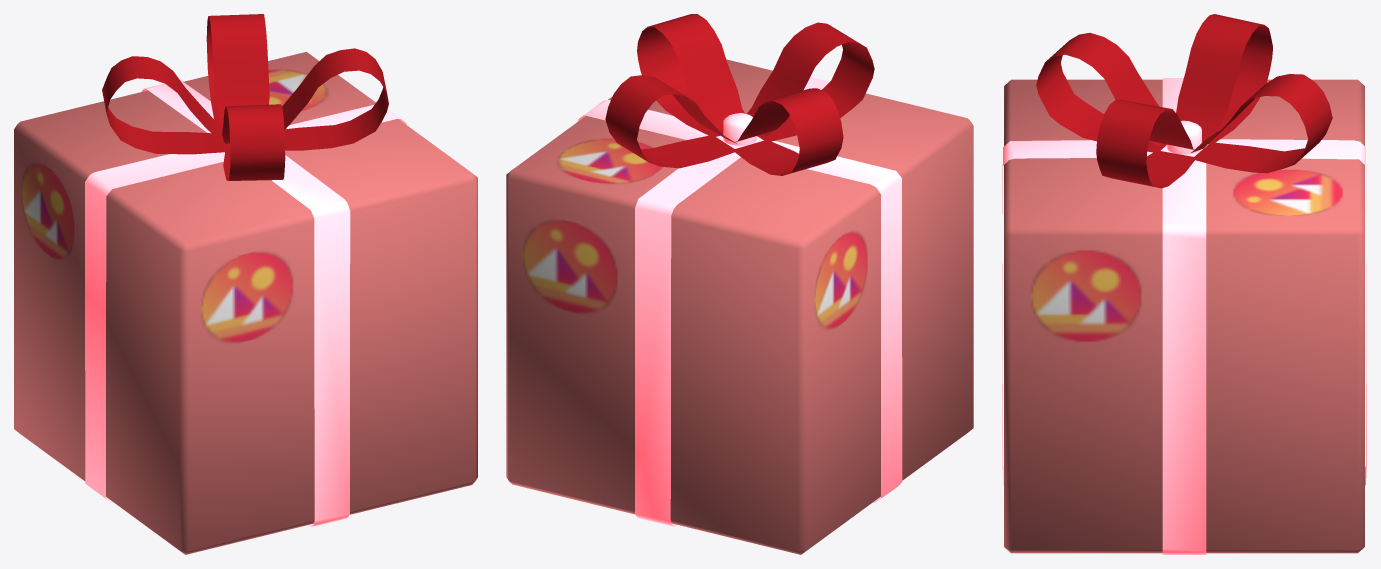
File: Present_Red.glb
3 renders of one model, left to right at view 1: azimuth 30°, elevation 25°; view 2: azimuth 150°, elevation 25°; view 3: azimuth 270°, elevation 25°, orthographic. The views are drawn at different scales.
Parts seen in each view (by area): view 1: christmas present; view 2: christmas present; view 3: christmas present.
Boxes of the visible parts, x1,y1,x2,y2 form: christmas present: (14, 14, 477, 554); christmas present: (506, 14, 973, 554); christmas present: (1002, 14, 1366, 554).
Bounding box in the file's own units: 0.1257 × 0.1598 × 0.1256.
Materials: 3 (1 with a texture image).
